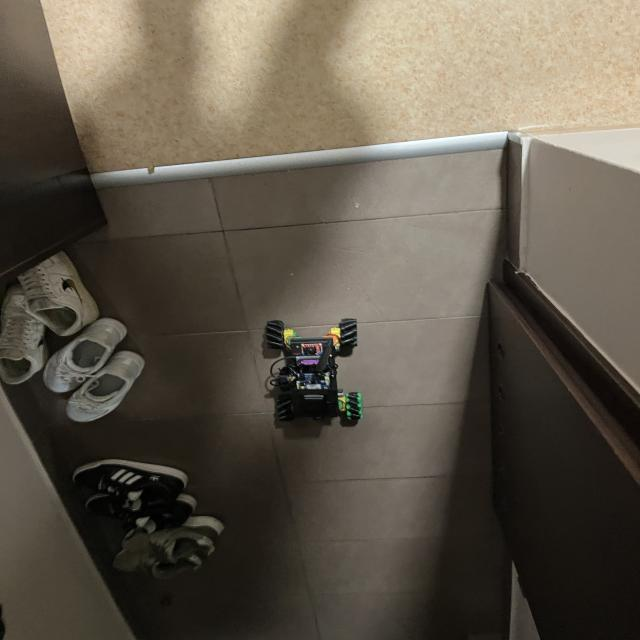robot: (264, 319, 363, 421)
